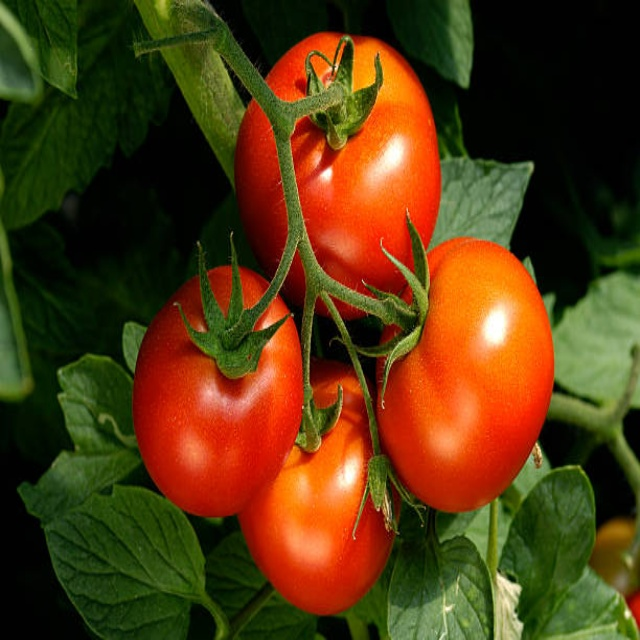tomato: (237, 25, 444, 314), (379, 233, 555, 510), (131, 271, 305, 513), (256, 372, 396, 611)
